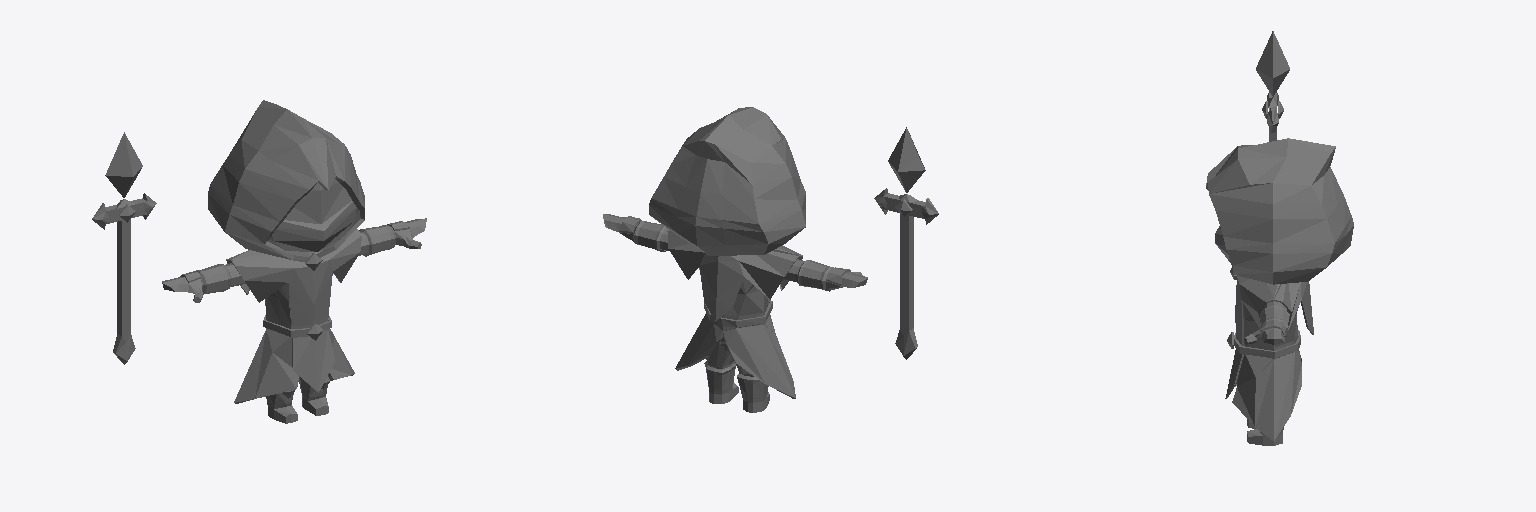
Rendered from mageLowUV.obj.
3 views of the same model, side by side, from view 1: azimuth 30°, elevation 25°; view 2: azimuth 150°, elevation 25°; view 3: azimuth 270°, elevation 25° (orthographic).
Visible parts, largest first — view 1: body hood, body body robe_out, body body polySurface1, pasted__group1 group1 pasted__sword, robe_in body body, pasted__body2 group pasted__gunlet_r1, pasted__body2 group pasted__shoe_l, pasted__body2 group pasted__gunlet_l1, pasted__body2 group pasted__shoe_l1; view 2: body hood, robe_in body body, body body robe_out, pasted__group1 group1 pasted__sword, body body polySurface1, pasted__body2 group pasted__shoe_l1, pasted__body2 group pasted__shoe_l, pasted__body2 group pasted__gunlet_r1, pasted__body2 group pasted__gunlet_l1; view 3: body hood, robe_in body body, body body robe_out, pasted__group1 group1 pasted__sword, body body polySurface1, pasted__body2 group pasted__belt1.
Boxes of the visible parts, x1,y1,x2,y2 form: body hood: [208, 100, 364, 261]; body body robe_out: [226, 229, 361, 392]; body body polySurface1: [162, 179, 426, 302]; pasted__group1 group1 pasted__sword: [92, 132, 156, 364]; robe_in body body: [234, 283, 354, 403]; pasted__body2 group pasted__gunlet_r1: [195, 264, 231, 294]; pasted__body2 group pasted__shoe_l: [266, 393, 297, 423]; pasted__body2 group pasted__gunlet_l1: [359, 225, 395, 256]; pasted__body2 group pasted__shoe_l1: [299, 377, 328, 415]; body hood: [649, 107, 805, 255]; robe_in body body: [675, 277, 795, 398]; body body robe_out: [667, 229, 802, 329]; pasted__group1 group1 pasted__sword: [874, 127, 938, 359]; body body polySurface1: [603, 214, 867, 376]; pasted__body2 group pasted__shoe_l1: [704, 361, 738, 403]; pasted__body2 group pasted__shoe_l: [737, 374, 769, 412]; pasted__body2 group pasted__gunlet_r1: [798, 260, 833, 291]; pasted__body2 group pasted__gunlet_l1: [633, 221, 665, 251]; body hood: [1206, 138, 1353, 284]; robe_in body body: [1232, 303, 1301, 441]; body body robe_out: [1225, 276, 1313, 398]; pasted__group1 group1 pasted__sword: [1256, 31, 1289, 141]; body body polySurface1: [1215, 226, 1286, 344]; pasted__body2 group pasted__belt1: [1234, 330, 1300, 357].
Size of the model in its own units: 17.88 by 16.25 by 6.85.